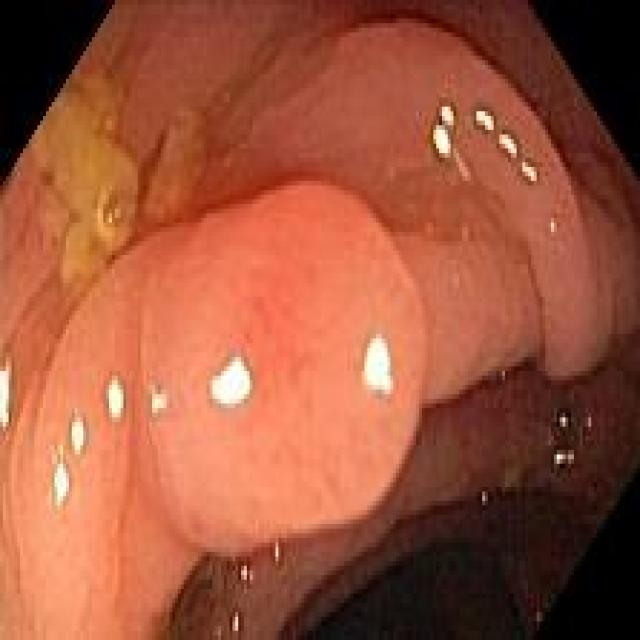Polyps: (10, 187, 428, 640)
